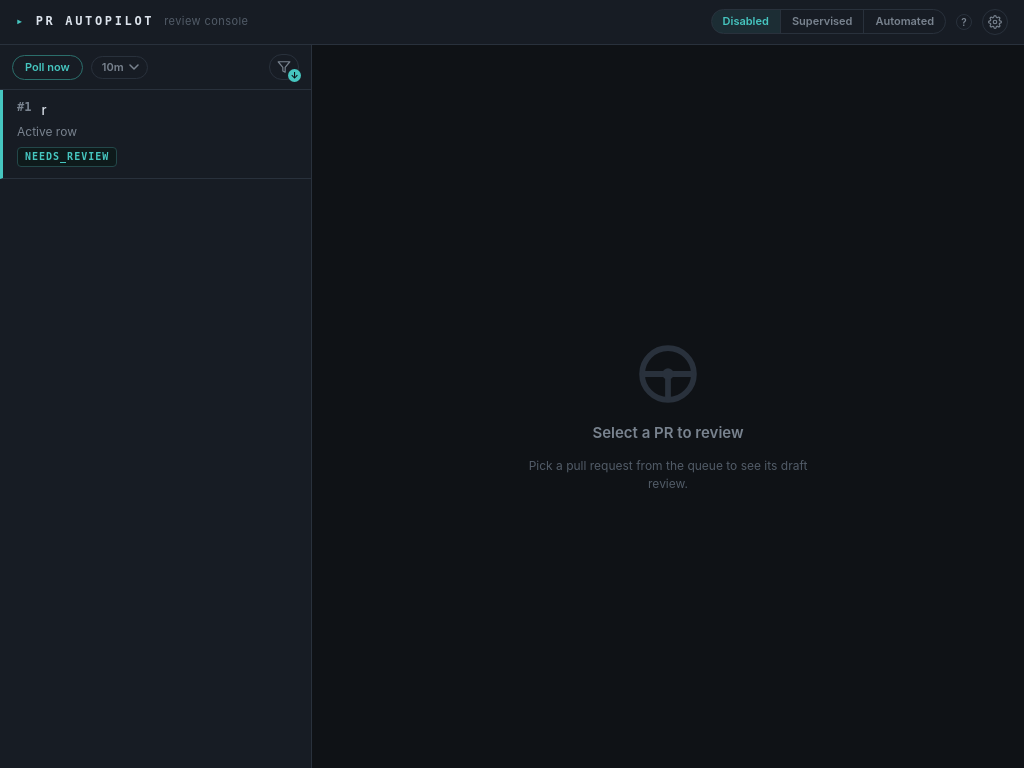
Scenario: App — queue filters › reveals only CLOSED when Show closed is checked
Expected: the text "Active row" is shown, [17,124,77,138]
What coordinates should you click on to do the following:
click the button named "filter"
I would click on:
 (284, 67)
Its box is [269,54,299,80].
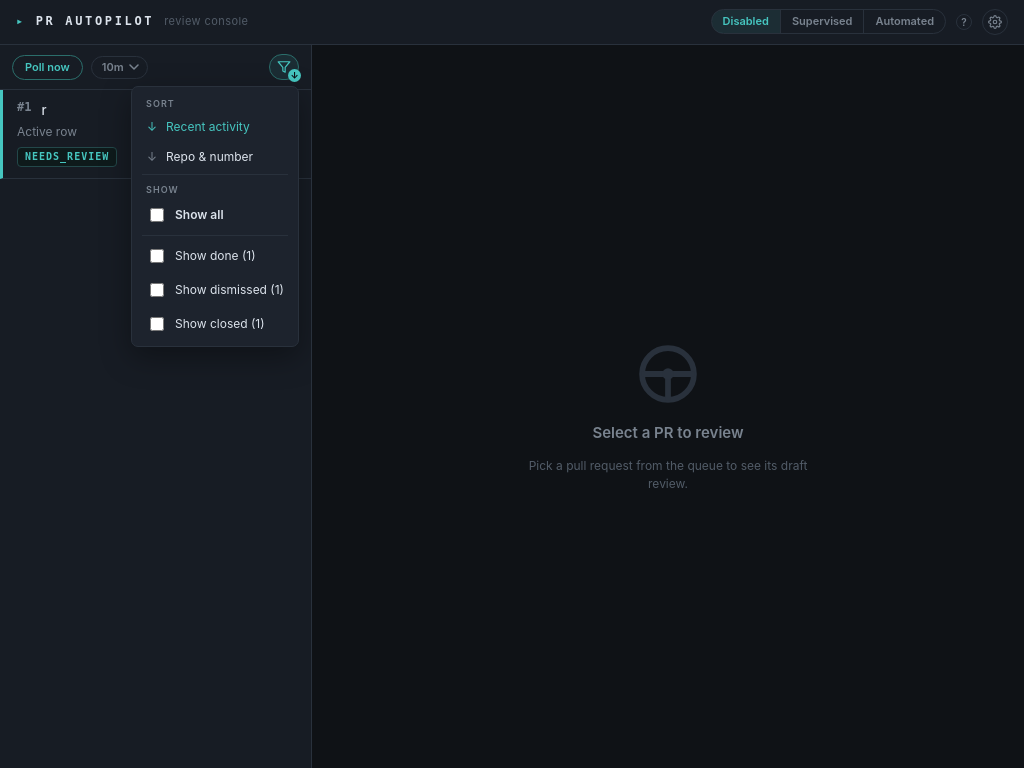
What coordinates should you click on to do the following:
click the checkbox labelled "Show closed (1)"
I would click on:
 (157, 324)
Its box is [150,317,164,331].
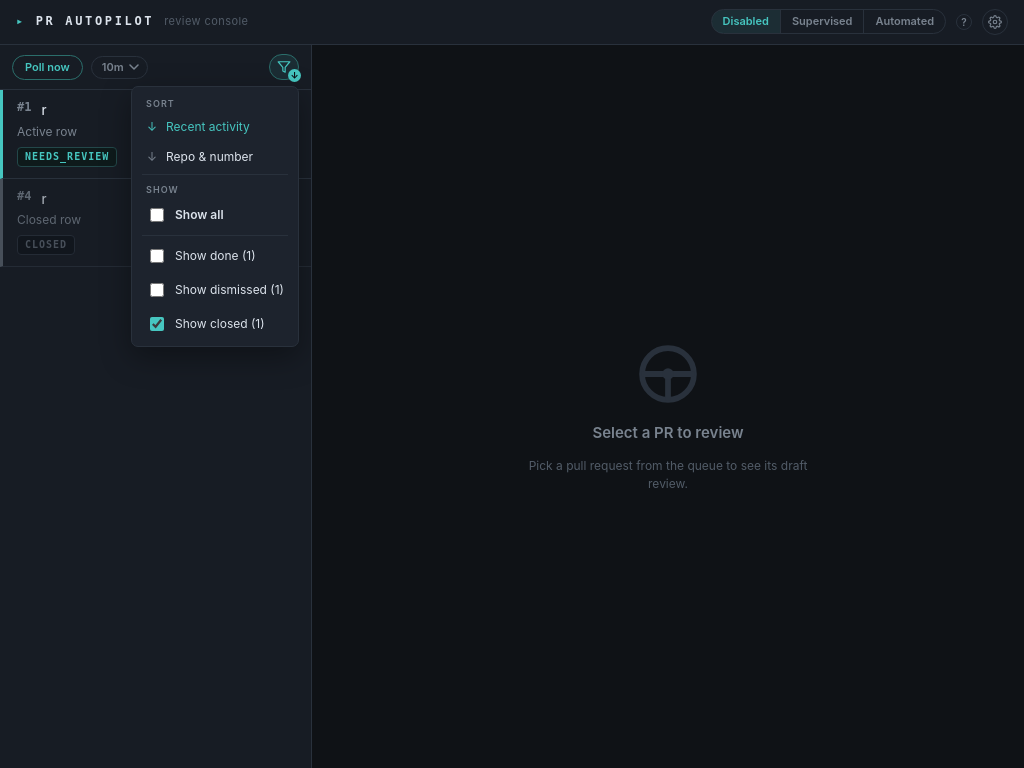
Expected: the text "Closed row" is shown, [17,212,81,227]
